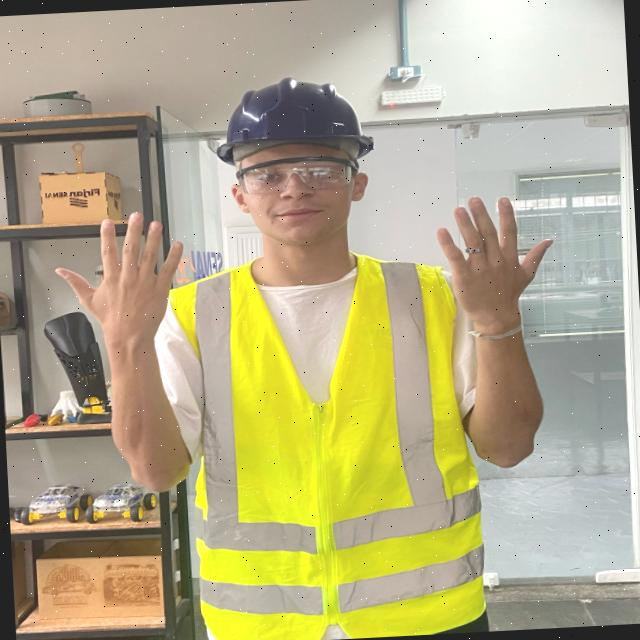CAPACETE: (222, 72, 377, 161)
COLETE: (164, 247, 497, 640)
OCULOS: (231, 158, 355, 198)
SEM LUVA: (49, 220, 194, 343), (431, 193, 560, 328)
